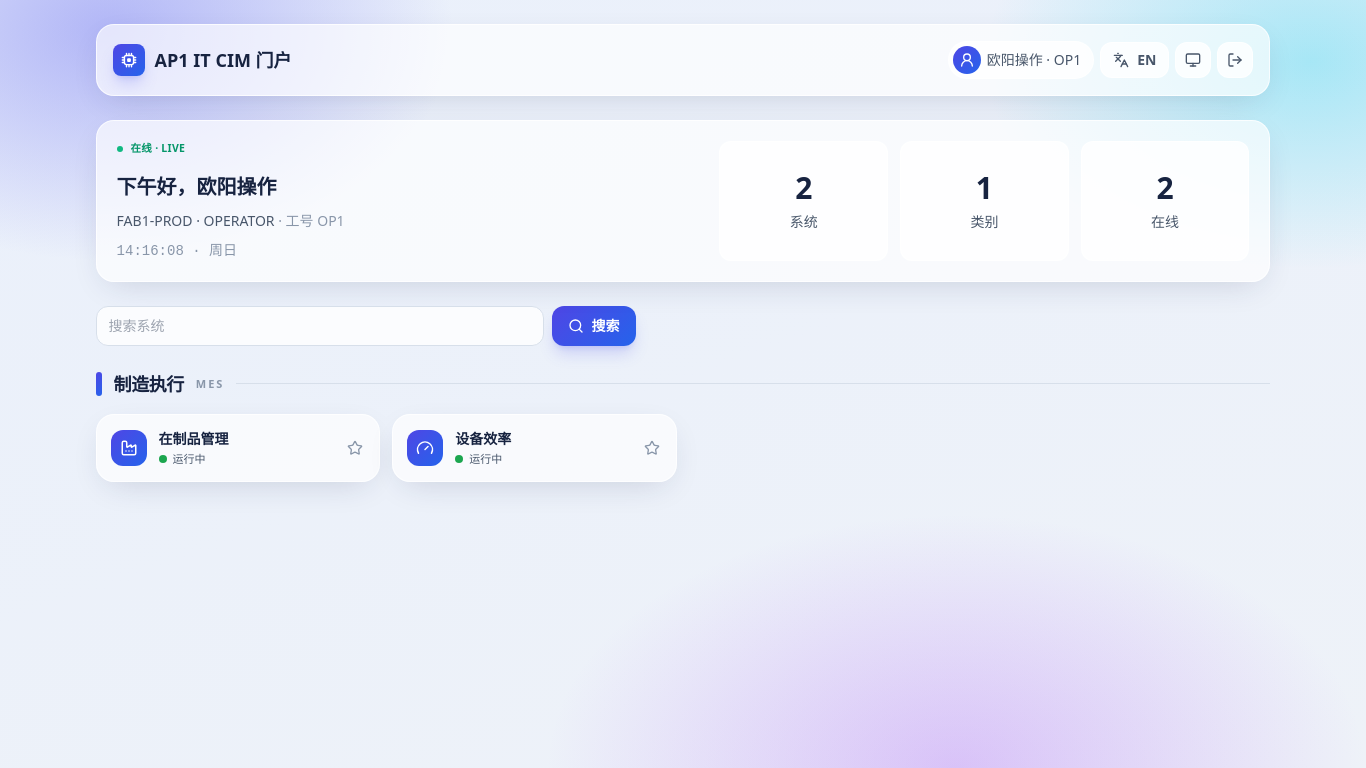
Test: HomeView › renders hero + domains + systems, and filters by search
The image size is (1366, 768).
Step 1. Type "在制品" into the field with placeholder "搜索系统" → (320, 326), box [96,306,544,346]
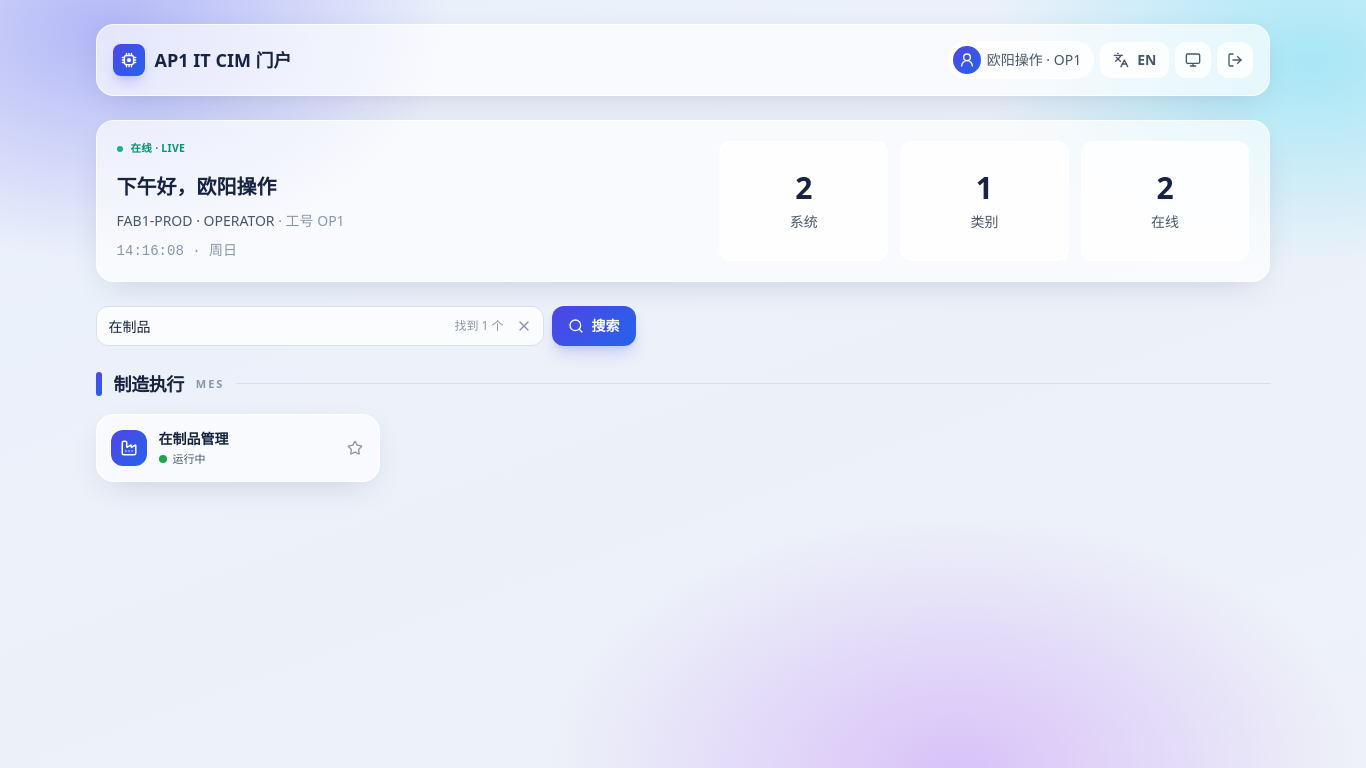
Expected: the text "在制品管理" is shown, [159,429,229,448]
Now the text "设备效率" is gone
